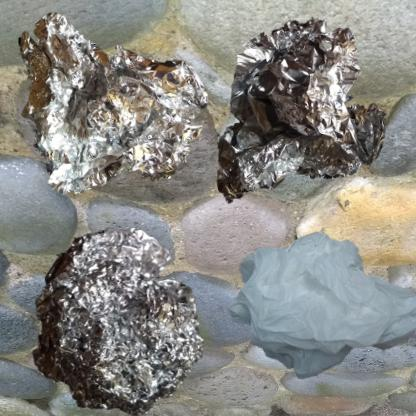aluminio: (10, 213, 222, 416), (10, 10, 213, 203), (213, 10, 396, 216)
bolsa: (213, 213, 416, 416)
